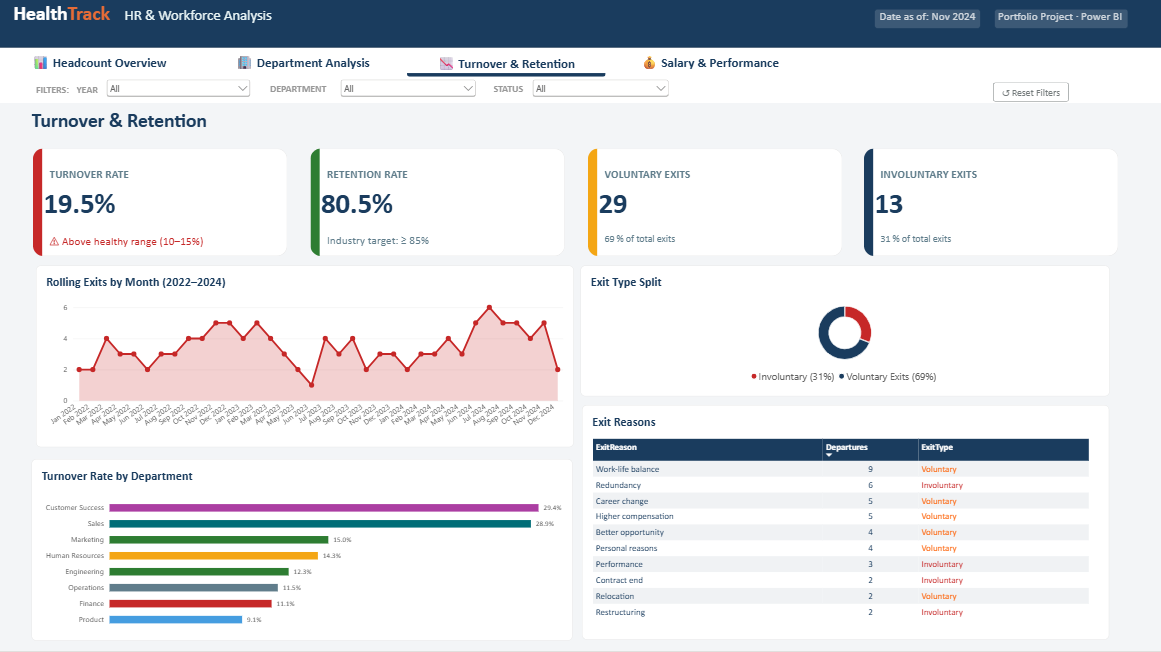

The page's visual inventory and layout, read from the dashboard file:
{"tool":"powerbi","page":{"name":"📉 Turnover & Retention","canvas":[1920,1080],"ordinal":2},"visuals":[{"type":"textbox","box":[32.5,17.8,345.9,47.7],"z":0,"group":"g10"},{"type":"shape","box":[0,92.5,1920,90],"z":0},{"type":"group","id":"g1","title":"Group 3","box":[132.6,140,974.9,44.5],"z":0,"group":"g8"},{"type":"group","id":"g2","title":"Group 1","box":[132.6,140.4,289.7,43.6],"z":0,"group":"g1"},{"type":"group","id":"g3","title":"Group 6","box":[518.6,258,429.3,176.4],"z":0,"group":"g15"},{"type":"textbox","box":[214.6,24.6,410.4,43.2],"z":1000,"group":"g10"},{"type":"slicer","fields":{"Values":["DimEmployee.EmploymentStatus"]},"box":[875.1,140,232.4,44.5],"z":1000,"group":"g6"},{"type":"slicer","fields":{"Values":["DimDate.Year"]},"box":[177.1,140.4,245.3,43.6],"z":1000,"group":"g2"},{"type":"group","id":"g4","title":"Group 2","box":[448.5,140.4,340.9,43.6],"z":1000,"group":"g1"},{"type":"slicer","fields":{"Values":["DimDate.Year"]},"box":[558.1,140.4,231.3,43.6],"z":1000,"group":"g4"},{"type":"textbox","box":[67.5,152.3,82,40.2],"z":1000,"group":"g8"},{"type":"textbox","box":[62.5,192.5,322.5,42.5],"z":1000},{"type":"group","id":"g5","title":"Group 9","box":[65,257.5,429,177.5],"z":1000,"group":"g15"},{"type":"shape","box":[0,7.5,1920,85],"z":2000},{"type":"group","id":"g6","title":"Group 2","box":[815.6,140,291.9,44.5],"z":2000,"group":"g1"},{"type":"group","id":"g7","title":"Group 9","box":[972.4,257.5,429,177.5],"z":2000,"group":"g15"},{"type":"group","id":"g8","title":"Group 4","box":[67.5,140,1040,52.5],"z":3000},{"type":"textbox","box":[815.6,149.6,108,32.7],"z":3000,"group":"g6"},{"type":"textbox","box":[448.5,150,108,32.7],"z":3000,"group":"g4"},{"type":"textbox","box":[132.6,152.8,55.3,31.1],"z":3000,"group":"g2"},{"type":"group","id":"g9","title":"Group 9","box":[1426,257.5,429,177.5],"z":3000,"group":"g15"},{"type":"group","id":"g10","title":"Group 5","box":[32.5,17.8,592.5,50],"z":4000},{"type":"group","id":"g11","title":"Group 7","box":[65,257.5,416.2,176.4],"z":4000,"group":"g16"},{"type":"group","id":"g12","title":"Group 7","box":[972.4,257.5,416.2,176.4],"z":4000,"group":"g17"},{"type":"group","id":"g13","title":"Group 7","box":[1426,257.5,416.2,176.4],"z":4000,"group":"g18"},{"type":"group","id":"g14","title":"Group 7","box":[518.6,258,416.2,176.4],"z":4000,"group":"g19"},{"type":"group","id":"g15","title":"Group 10","box":[65,257.5,1790,177.5],"z":5000},{"type":"textbox","box":[92.3,287.7,382.2,139.7],"z":5000,"group":"g16"},{"type":"textbox","box":[999.7,287.7,382.2,139.7],"z":5000,"group":"g17"},{"type":"textbox","box":[1453.3,287.7,382.2,139.7],"z":5000,"group":"g18"},{"type":"textbox","box":[545.9,288.2,382.2,139.7],"z":5000,"group":"g19"},{"type":"group","id":"g16","title":"Group 8","box":[65,257.5,416.2,176.4],"z":5001,"group":"g5"},{"type":"group","id":"g17","title":"Group 8","box":[972.4,257.5,416.2,176.4],"z":5001,"group":"g7"},{"type":"group","id":"g18","title":"Group 8","box":[1426,257.5,416.2,176.4],"z":5001,"group":"g9"},{"type":"group","id":"g19","title":"Group 8","box":[518.6,258,416.2,176.4],"z":5001,"group":"g20"},{"type":"group","id":"g20","title":"Group 9","box":[518.6,258,429.3,176.4],"z":5001,"group":"g3"},{"type":"cardVisual","fields":{"Data":["Measure.Turnover Rate %"]},"box":[65,257.5,416.2,176.4],"z":6000,"group":"g11"},{"type":"cardVisual","fields":{"Data":["Measure.Voluntary Exits"]},"box":[972.4,257.5,416.2,176.4],"z":6000,"group":"g12"},{"type":"cardVisual","fields":{"Data":["Measure.Involuntary Exits"]},"box":[1426,257.5,416.2,176.4],"z":6000,"group":"g13"},{"type":"cardVisual","fields":{"Data":["Measure.Retention Rate %"]},"box":[518.6,258,416.2,176.4],"z":6000,"group":"g14"},{"type":"textbox","box":[91.5,396.1,402.8,31.2],"z":6000,"group":"g5"},{"type":"textbox","box":[998.9,396.1,402.8,31.2],"z":6000,"group":"g7"},{"type":"textbox","box":[1452.5,396.1,402.8,31.2],"z":6000,"group":"g9"},{"type":"textbox","box":[545.1,396.6,402.8,31.2],"z":6000,"group":"g20"},{"type":"lineChart","title":"Rolling Exits by Month (2022–2024)","fields":{"Category":["DimDate.MonthYear"],"Y":["Measure.Rolling 3M Exits"]},"box":[67.5,450.3,880,297.5],"z":6000},{"type":"pageNavigator","box":[10,92.5,1325,47.5],"z":7000},{"type":"actionButton","title":"Reset Filters","box":[1635,150,124.3,31.4],"z":8000},{"type":"group","id":"g21","title":"Group 11","box":[1440,30,415,32.5],"z":9000},{"type":"textbox","box":[1636.2,30,218.9,32.1],"z":10000,"group":"g21"},{"type":"clusteredBarChart","title":"Turnover Rate by Department","fields":{"Category":["DimDepartment.DepartmentName"],"Y":["Measure.Dept Turnover %"]},"box":[62.5,765,885,297.5],"z":10000},{"type":"textbox","box":[1440,30,173.6,32.1],"z":11000,"group":"g21"},{"type":"donutChart","title":" Exit Type Split","fields":{"Y":["Measure.Involuntary Exits","Measure.Voluntary Exits"]},"box":[960,450,865.7,214.3],"z":11000},{"type":"tableEx","title":" Exit Reasons","fields":{"Values":["FactExit.ExitReason","Measure.Departures","FactExit.ExitType"]},"box":[962.9,678.6,862.9,384.3],"z":12000}]}

Visuals, with their boxes on the page's 1920x1080 design canvas (x1, y1, x2, y2). These are canvas units, not pixel positions in the 1161x652 screenshot, which may show the page scaled, cropped or inside an application window:
textbox: bbox=[32, 18, 378, 66]
shape: bbox=[0, 92, 1920, 182]
"Group 3" group: bbox=[133, 140, 1108, 184]
"Group 1" group: bbox=[133, 140, 422, 184]
"Group 6" group: bbox=[519, 258, 948, 434]
textbox: bbox=[215, 25, 625, 68]
slicer - DimEmployee.EmploymentStatus: bbox=[875, 140, 1108, 184]
slicer - DimDate.Year: bbox=[177, 140, 422, 184]
"Group 2" group: bbox=[448, 140, 789, 184]
slicer - DimDate.Year: bbox=[558, 140, 789, 184]
textbox: bbox=[68, 152, 150, 192]
textbox: bbox=[62, 192, 385, 235]
"Group 9" group: bbox=[65, 258, 494, 435]
shape: bbox=[0, 8, 1920, 92]
"Group 2" group: bbox=[816, 140, 1108, 184]
"Group 9" group: bbox=[972, 258, 1401, 435]
"Group 4" group: bbox=[68, 140, 1108, 192]
textbox: bbox=[816, 150, 924, 182]
textbox: bbox=[448, 150, 556, 183]
textbox: bbox=[133, 153, 188, 184]
"Group 9" group: bbox=[1426, 258, 1855, 435]
"Group 5" group: bbox=[32, 18, 625, 68]
"Group 7" group: bbox=[65, 258, 481, 434]
"Group 7" group: bbox=[972, 258, 1389, 434]
"Group 7" group: bbox=[1426, 258, 1842, 434]
"Group 7" group: bbox=[519, 258, 935, 434]
"Group 10" group: bbox=[65, 258, 1855, 435]
textbox: bbox=[92, 288, 474, 427]
textbox: bbox=[1000, 288, 1382, 427]
textbox: bbox=[1453, 288, 1836, 427]
textbox: bbox=[546, 288, 928, 428]
"Group 8" group: bbox=[65, 258, 481, 434]
"Group 8" group: bbox=[972, 258, 1389, 434]
"Group 8" group: bbox=[1426, 258, 1842, 434]
"Group 8" group: bbox=[519, 258, 935, 434]
"Group 9" group: bbox=[519, 258, 948, 434]
cardVisual - Measure.Turnover Rate %: bbox=[65, 258, 481, 434]
cardVisual - Measure.Voluntary Exits: bbox=[972, 258, 1389, 434]
cardVisual - Measure.Involuntary Exits: bbox=[1426, 258, 1842, 434]
cardVisual - Measure.Retention Rate %: bbox=[519, 258, 935, 434]
textbox: bbox=[92, 396, 494, 427]
textbox: bbox=[999, 396, 1402, 427]
textbox: bbox=[1452, 396, 1855, 427]
textbox: bbox=[545, 397, 948, 428]
"Rolling Exits by Month (2022–2024)" lineChart: bbox=[68, 450, 948, 748]
pageNavigator: bbox=[10, 92, 1335, 140]
"Reset Filters" actionButton: bbox=[1635, 150, 1759, 181]
"Group 11" group: bbox=[1440, 30, 1855, 62]
textbox: bbox=[1636, 30, 1855, 62]
"Turnover Rate by Department" clusteredBarChart: bbox=[62, 765, 948, 1062]
textbox: bbox=[1440, 30, 1614, 62]
" Exit Type Split" donutChart: bbox=[960, 450, 1826, 664]
" Exit Reasons" tableEx: bbox=[963, 679, 1826, 1063]
